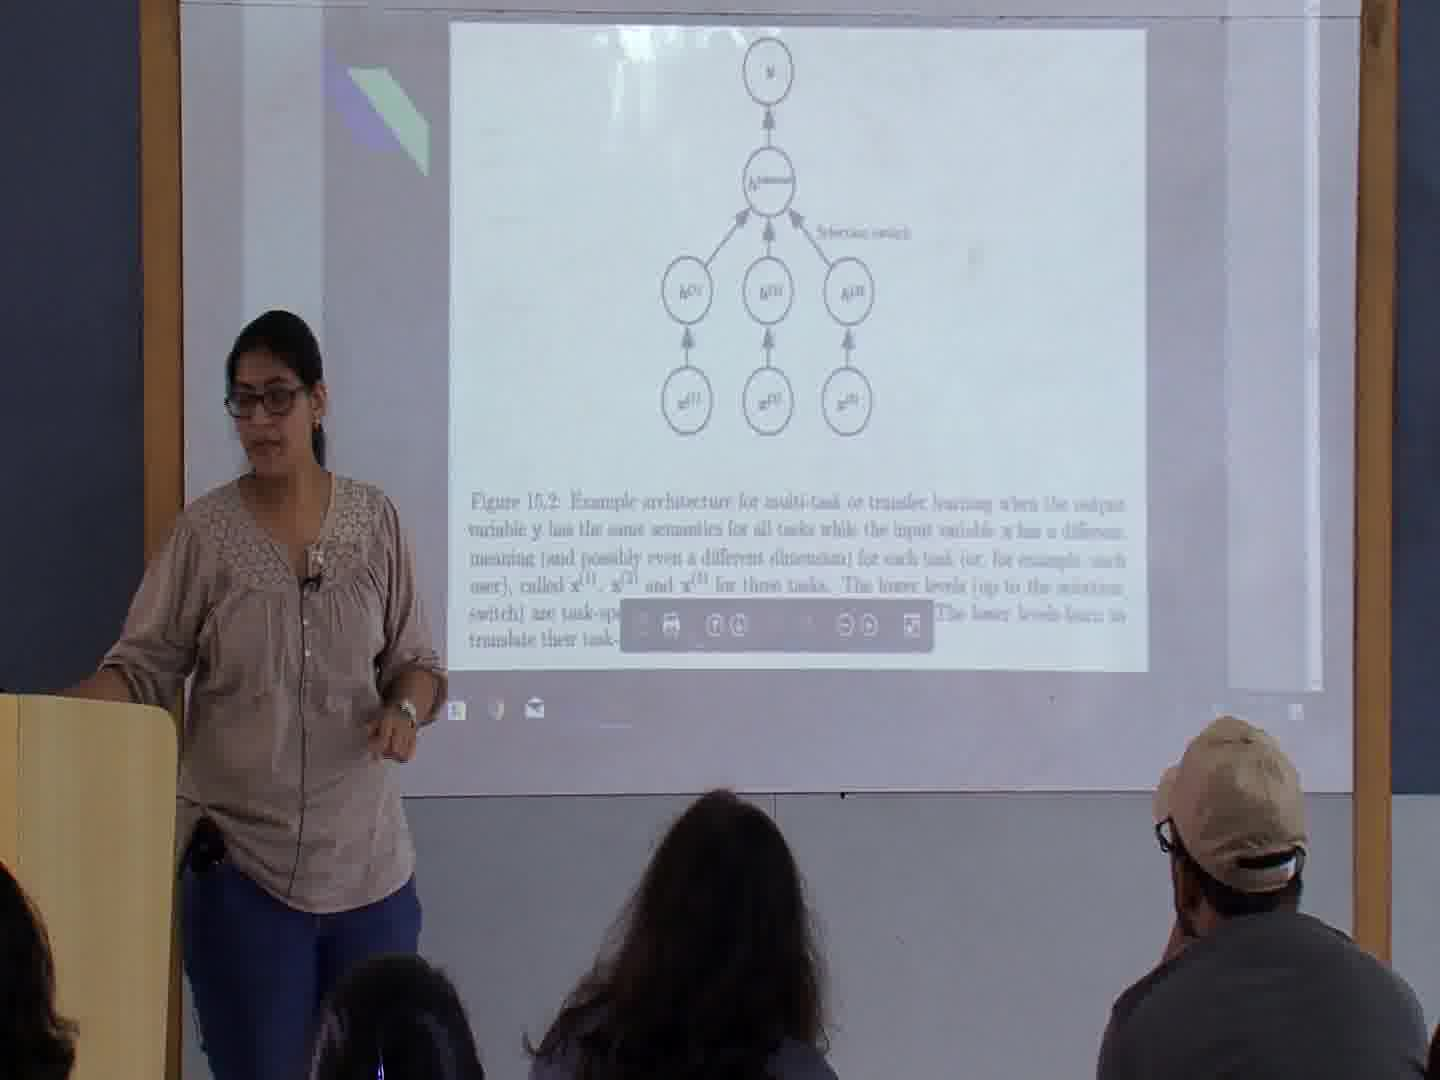fig: (651, 32, 918, 444)
